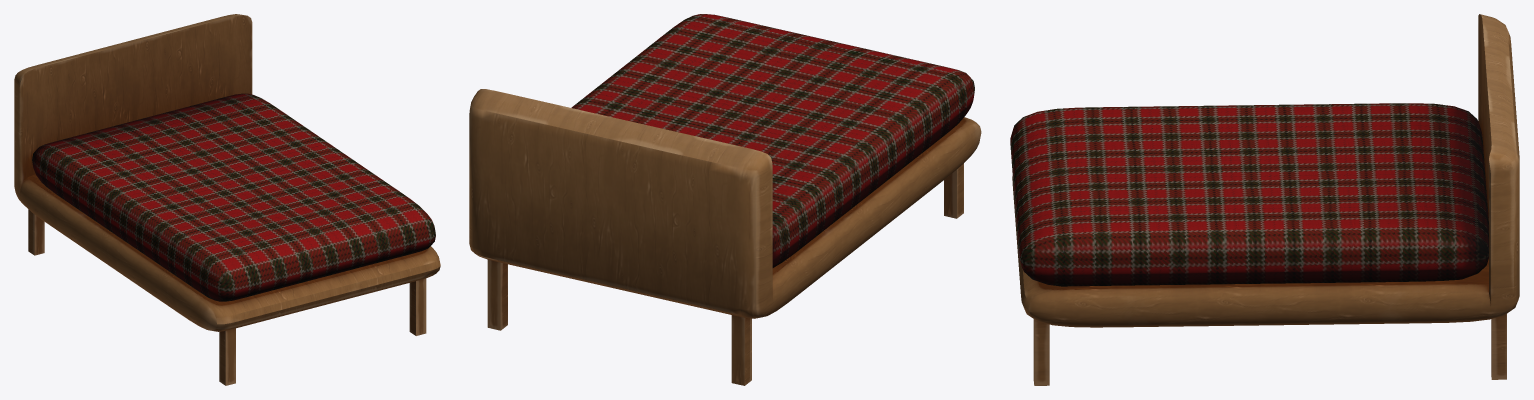
The model's file is Aslan_Bed.fbx.
3 renders of one model, left to right at view 1: azimuth 30°, elevation 25°; view 2: azimuth 150°, elevation 25°; view 3: azimuth 270°, elevation 25°, orthographic. The views are drawn at different scales.
Parts seen in each view (by area): view 1: Bed.001; view 2: Bed.001; view 3: Bed.001.
Boxes of the visible parts, x1,y1,x2,y2 form: Bed.001: (14, 14, 440, 385); Bed.001: (469, 14, 981, 385); Bed.001: (1010, 14, 1519, 385).
Size of the model in its own units: 242 by 175 by 342.
Materials: 1 (1 with a texture image).
